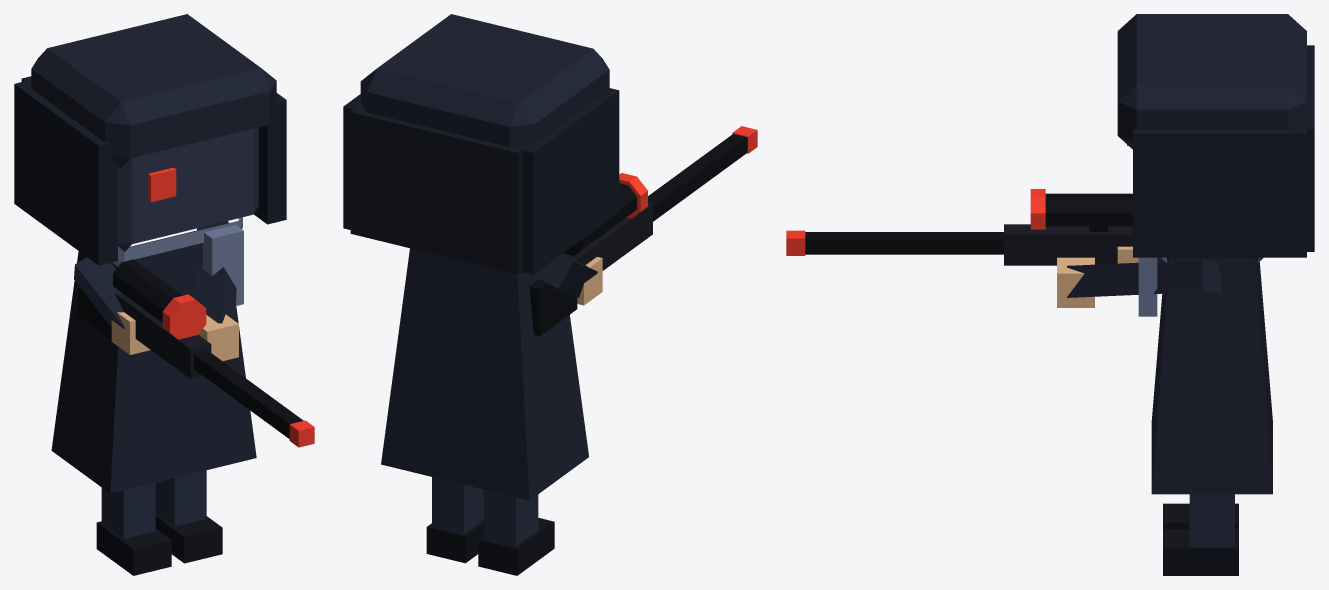
The model's file is sniper_enemy.glb.
3 renders of one model, left to right at view 1: azimuth 30°, elevation 25°; view 2: azimuth 150°, elevation 25°; view 3: azimuth 270°, elevation 25°, orthographic. The views are drawn at different scales.
Parts seen in each view (by area): view 1: sniper_enemy_mesh; view 2: sniper_enemy_mesh; view 3: sniper_enemy_mesh.
Part boxes in pixels (box(x1,y1,x2,y2)): sniper_enemy_mesh: box(14, 14, 314, 575); sniper_enemy_mesh: box(343, 14, 757, 575); sniper_enemy_mesh: box(786, 14, 1314, 575).
Size of the model in its own units: 0.6823 by 1.7 by 1.61.
Materials: 1 (1 with a texture image).
